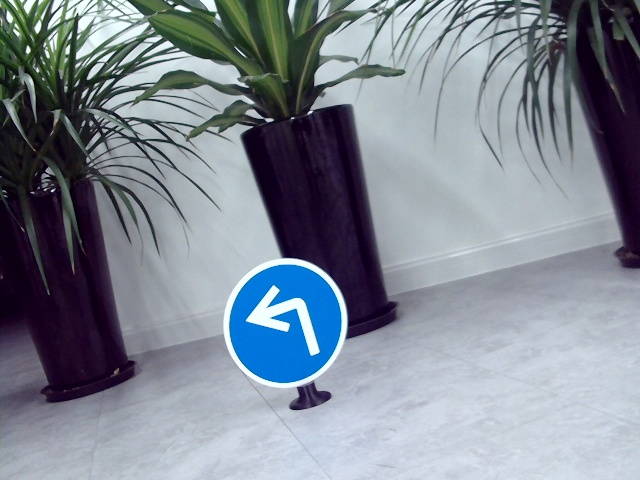turn_left: (243, 282, 321, 362)
